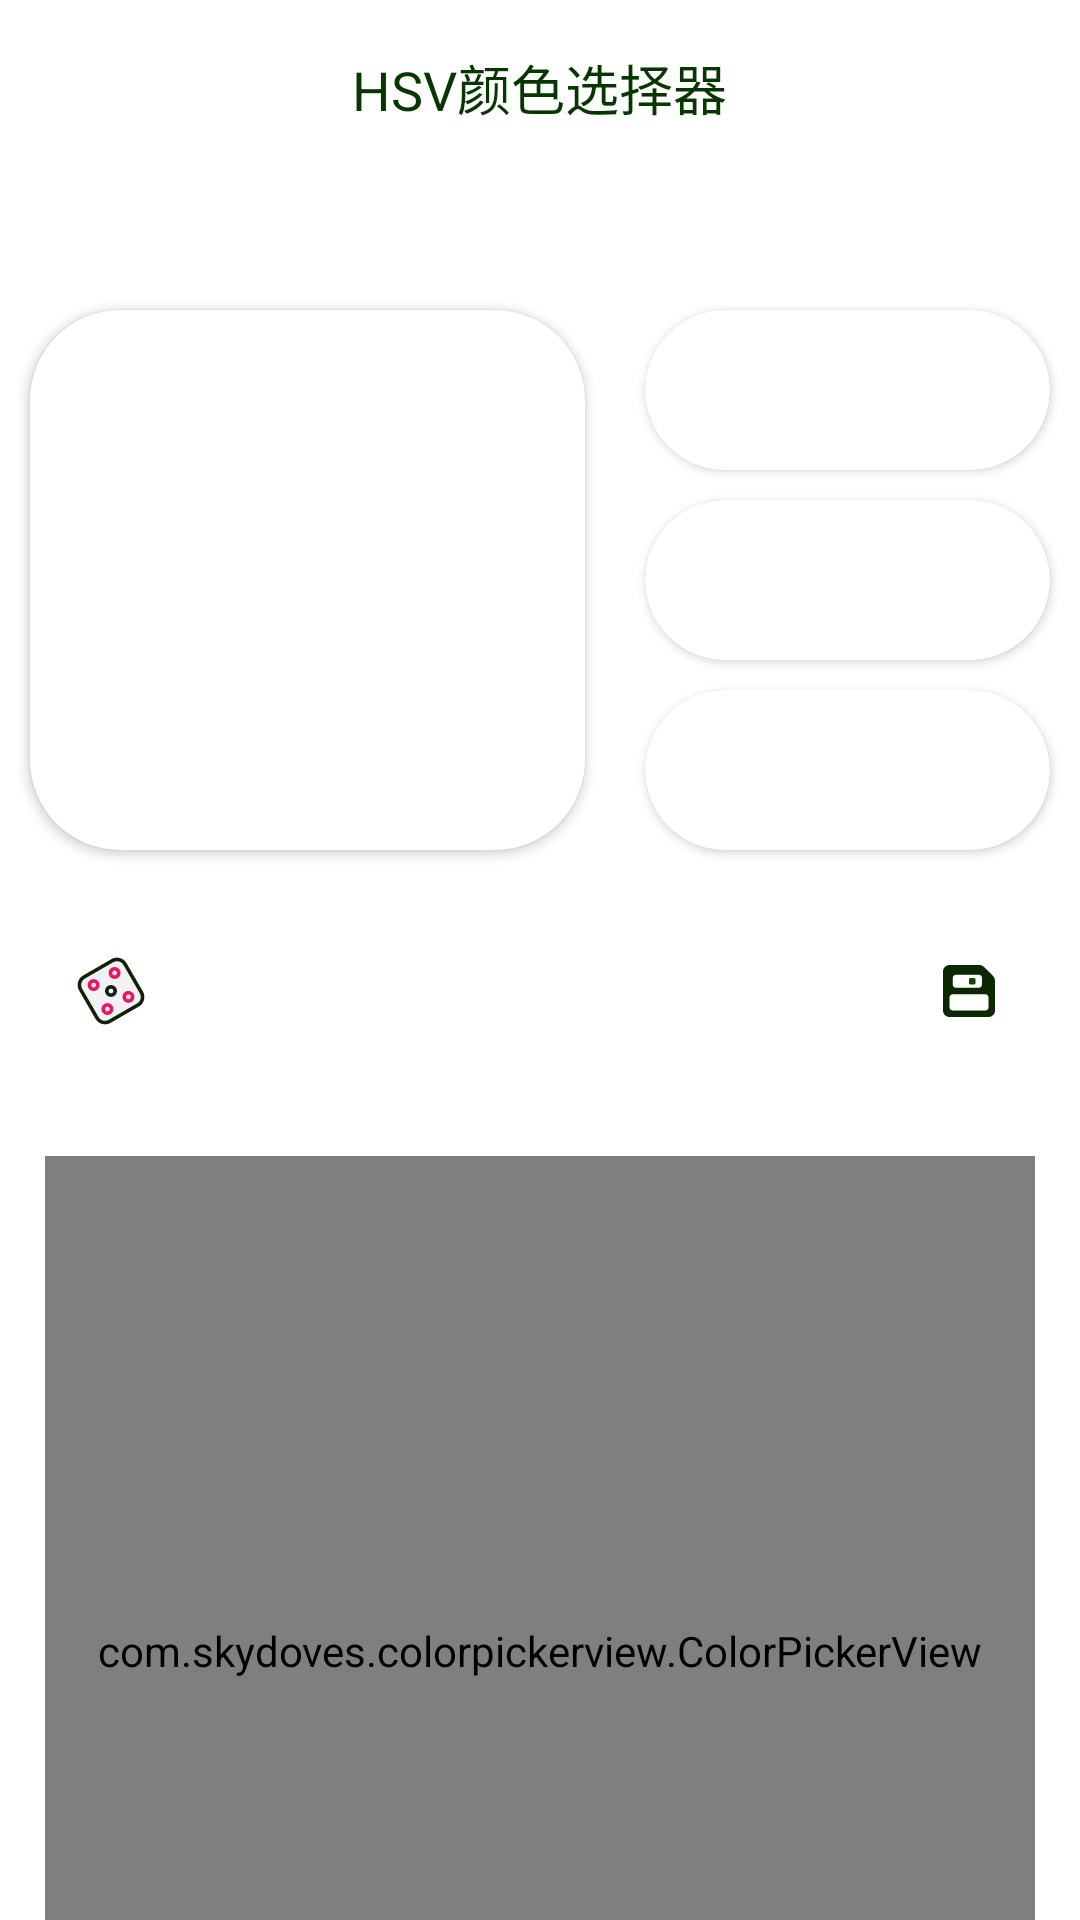

Screen size 1080*1920. Icon name, then its center in pixels as (x,y):
randomchange: (111,991)
saveone: (969,991)
